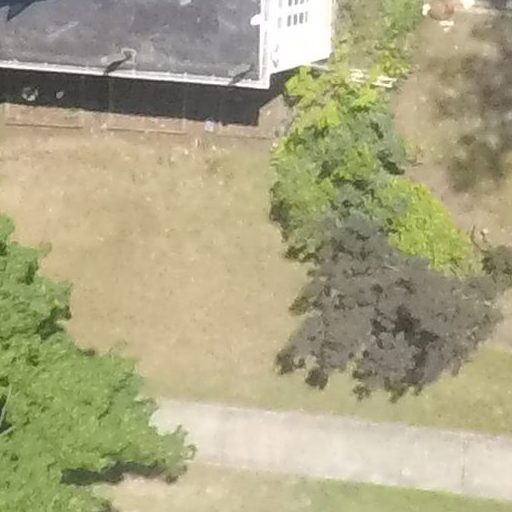container: (21, 84, 40, 104), (52, 90, 71, 104)
flower bed: (1, 64, 97, 137), (98, 76, 198, 139), (207, 85, 294, 139)
